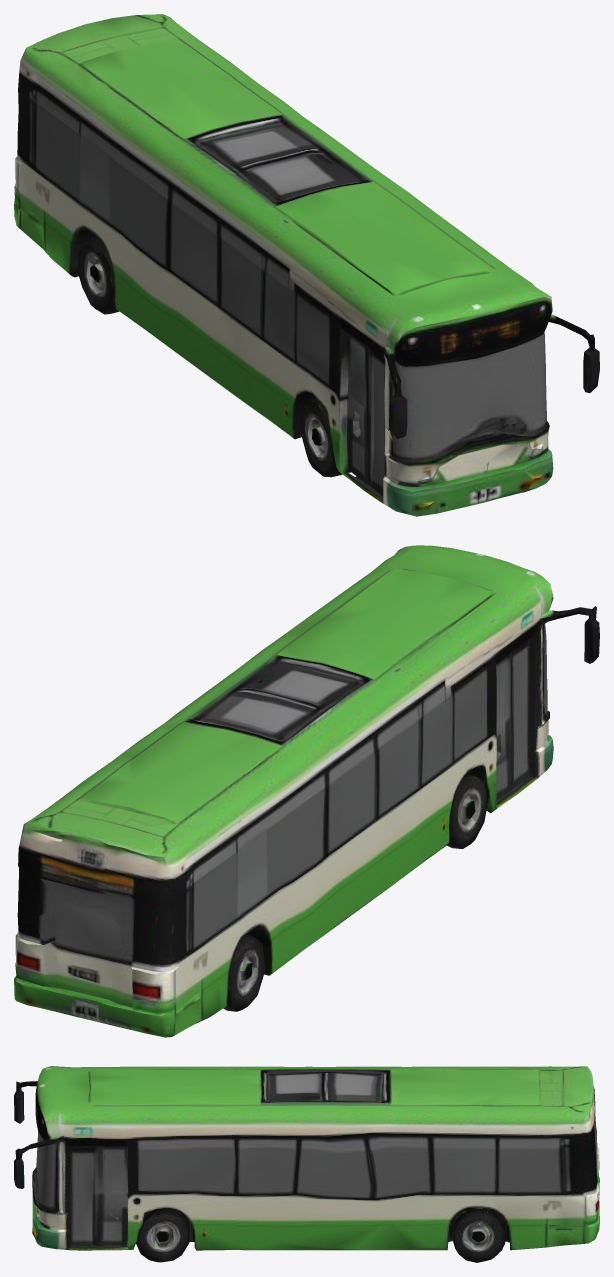
Rendered from city_bus.glb.
3 views of the same model, one above another, from view 1: azimuth 30°, elevation 25°; view 2: azimuth 150°, elevation 25°; view 3: azimuth 270°, elevation 25° (orthographic). The views are drawn at different scales.
Parts seen in each view (by area): view 1: city_bus; view 2: city_bus; view 3: city_bus.
Part boxes in pixels (bbox=[...]): city_bus: bbox=[14, 14, 599, 516]; city_bus: bbox=[14, 545, 599, 1037]; city_bus: bbox=[14, 1066, 599, 1262].
Size of the model in its own units: 3.2 by 3.19 by 11.
Materials: 1 (1 with a texture image).
